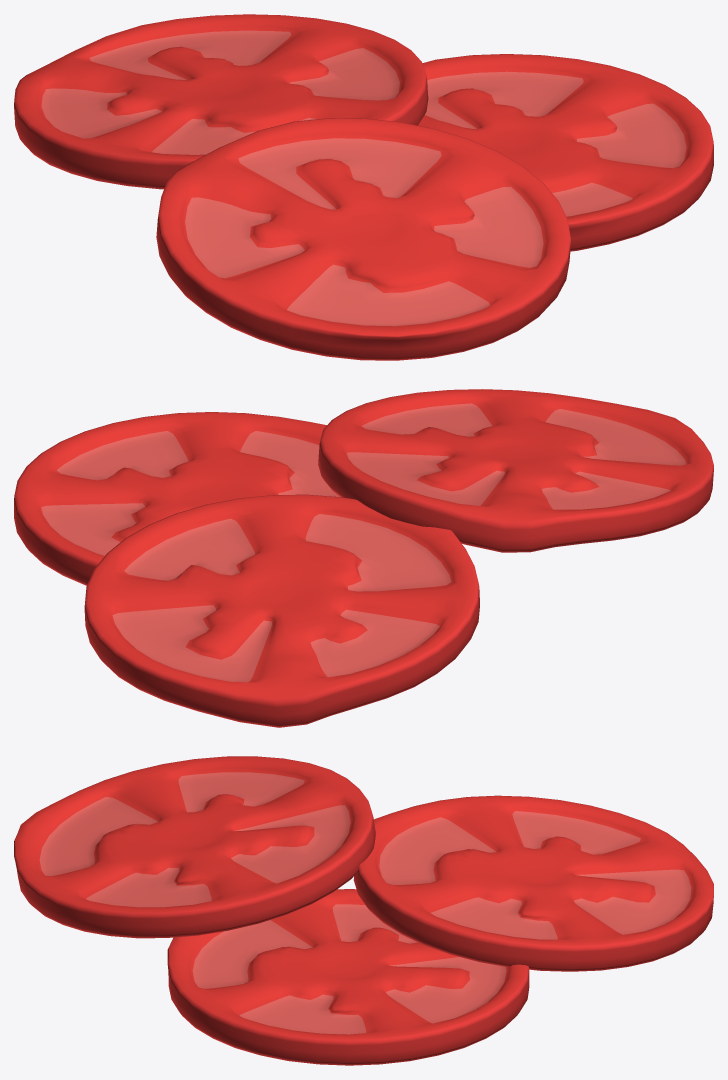
The model's file is tomatoesFINAL.fbx.
3 views of the same model, one above another, from view 1: azimuth 30°, elevation 25°; view 2: azimuth 150°, elevation 25°; view 3: azimuth 270°, elevation 25° (orthographic). The views are drawn at different scales.
Visible parts, largest first — view 1: Circle.002, Circle.001, Circle; view 2: Circle.001, Circle.002, Circle; view 3: Circle.002, Circle.001, Circle.
Boxes of the visible parts, x1,y1,x2,y2 form: Circle.002: [156, 118, 570, 360]; Circle.001: [14, 14, 428, 189]; Circle: [418, 54, 713, 251]; Circle.001: [84, 494, 479, 727]; Circle.002: [318, 389, 713, 552]; Circle: [14, 412, 340, 585]; Circle.002: [14, 756, 375, 938]; Circle.001: [353, 795, 713, 971]; Circle: [167, 889, 529, 1065].
Size of the model in its own units: 402 by 64.25 by 472.
